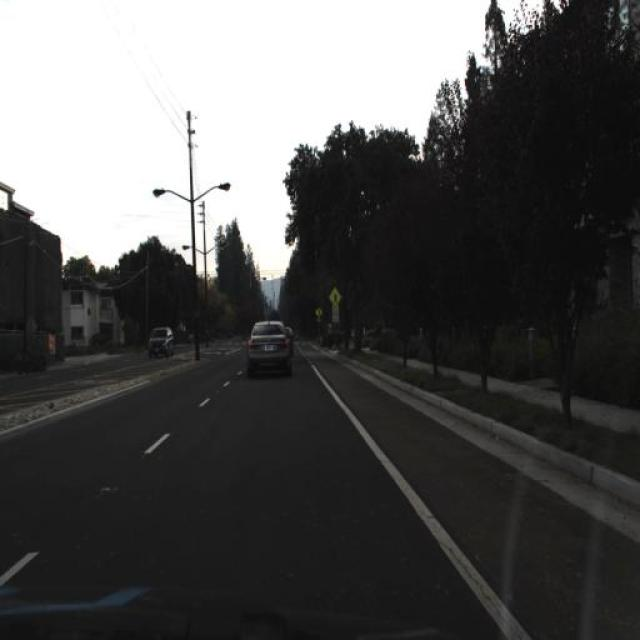car: (244, 314, 298, 382), (147, 324, 178, 362), (145, 323, 173, 362)
